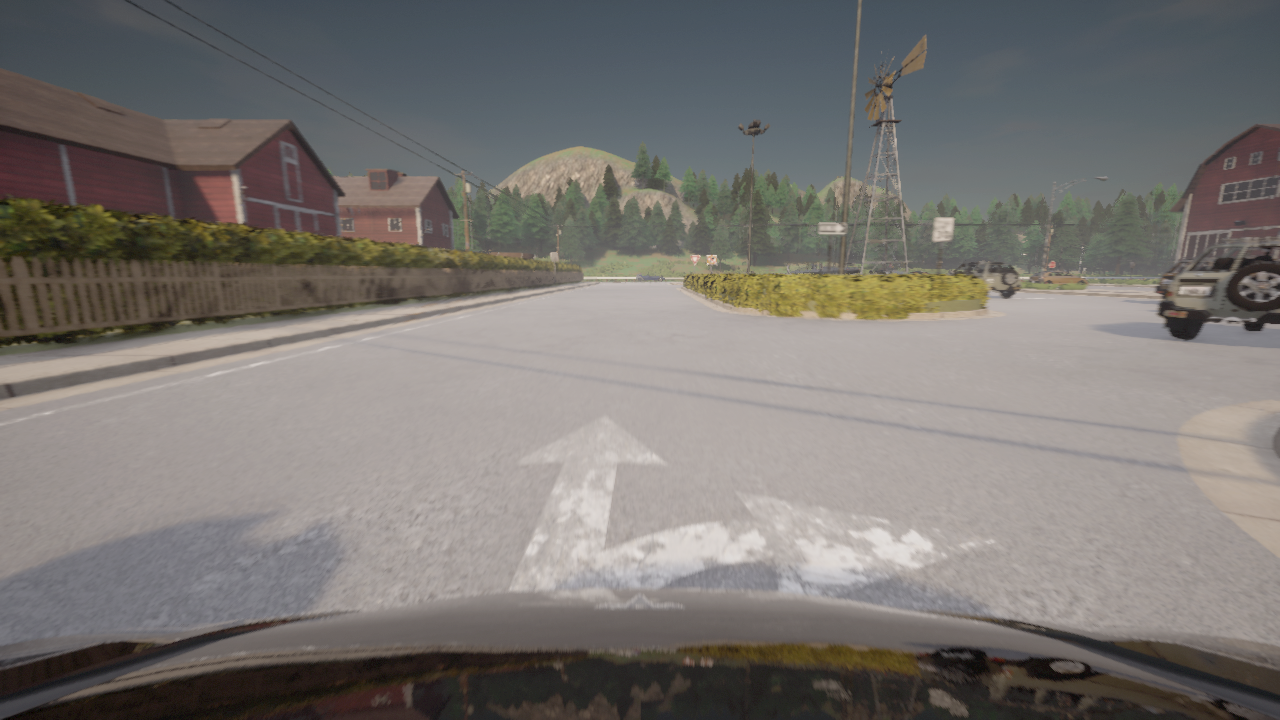cyclist: (0, 588, 1279, 719), (1158, 237, 1279, 338), (948, 261, 1020, 297), (1155, 258, 1196, 299), (1028, 271, 1087, 285), (786, 264, 859, 274), (637, 272, 665, 282), (871, 268, 907, 273), (738, 270, 760, 273), (907, 271, 928, 274)
